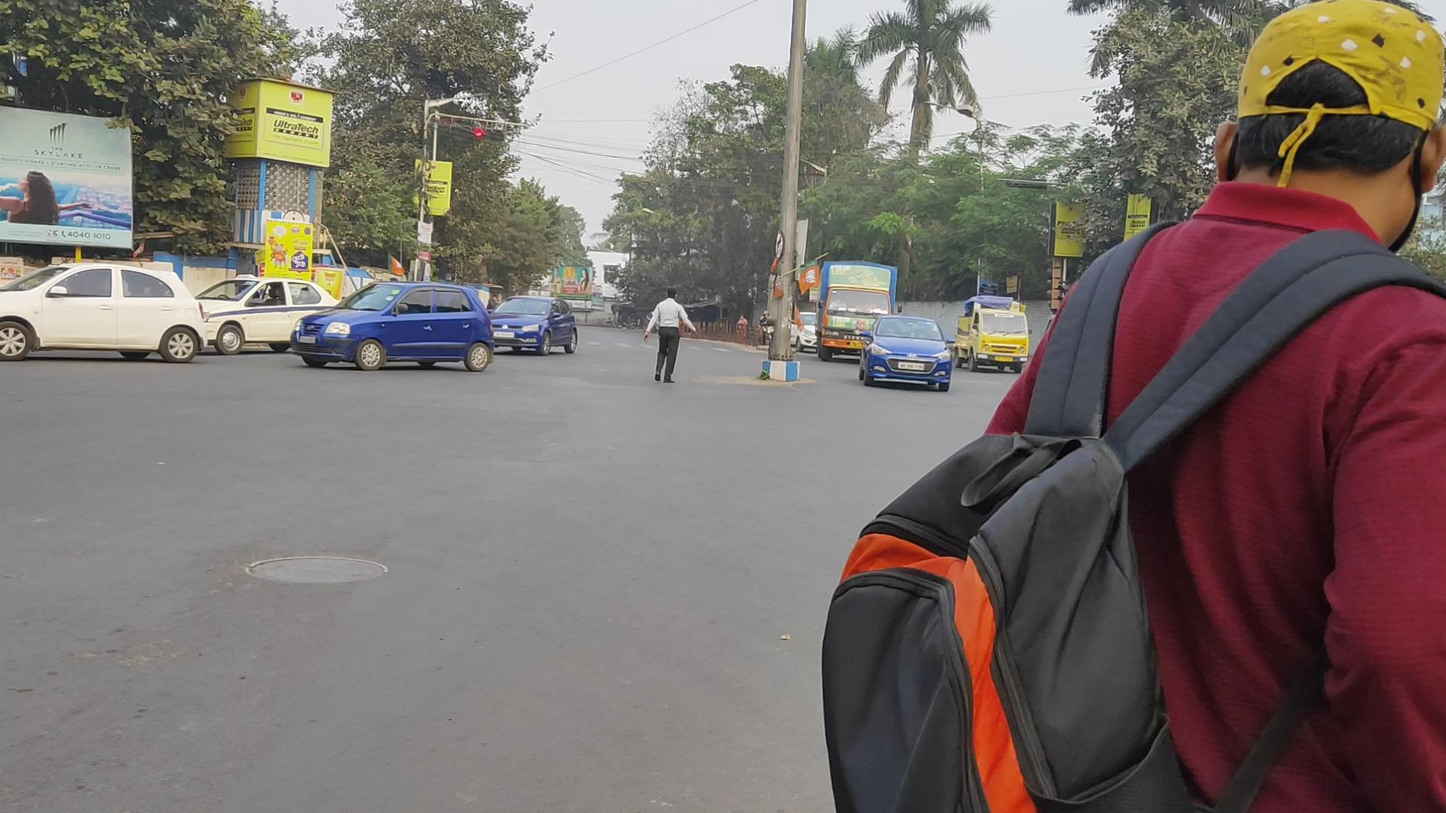car: (1, 262, 209, 364), (291, 280, 494, 373), (185, 273, 348, 355), (859, 315, 952, 391), (484, 295, 578, 355)
truck: (814, 260, 897, 362)
van: (953, 296, 1033, 375)
